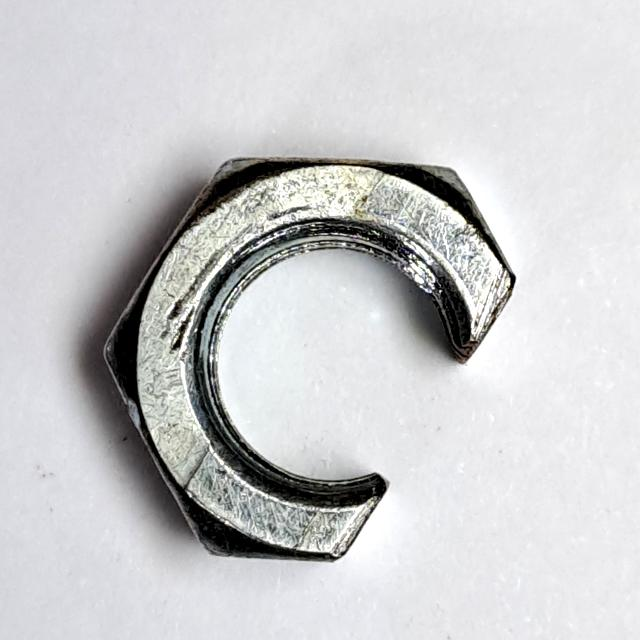Fracture: (87, 143, 533, 581)
